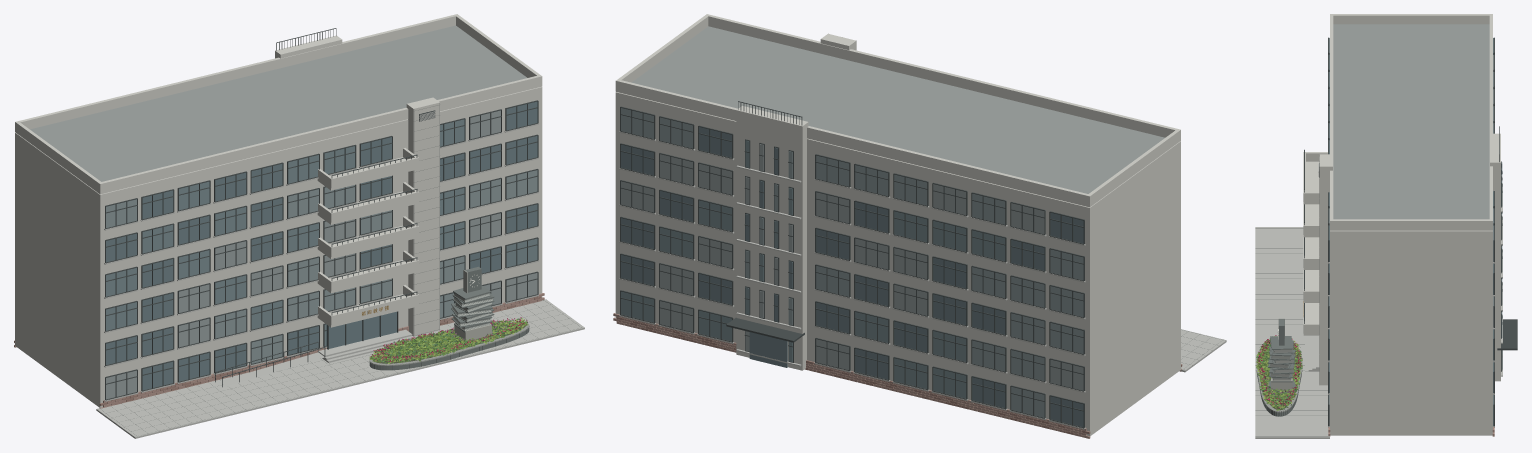
File: buildings-17-medium.glb
3 renders of one model, left to right at view 1: azimuth 30°, elevation 25°; view 2: azimuth 150°, elevation 25°; view 3: azimuth 270°, elevation 25°, orthographic. The views are drawn at different scales.
Visible parts, largest first — view 1: T4 six storey structure, T4 flat roof, T4 window glass.001, T4 forecourt paving, T4 roof parapet, T4 window transoms, T4 window glass.003, T4 window mullions, T4 window glass.002, T4 window glass, T4 front shaft, T4 balcony front (+20 smaller); view 2: T4 six storey structure, T4 flat roof, T4 window glass.001, T4 rear stair tower, T4 window glass.002, T4 window transoms, T4 roof parapet, T4 window glass, T4 window mullions, T4 window glass.003, T4 projecting sills, T4 end parapet (+12 smaller); view 3: T4 six storey structure, T4 flat roof, T4 forecourt paving, T4 end parapet, T4 front shaft, T4 balcony slab, T4 rear stair tower, T4 roof parapet, T4 balcony returns, T4 overhanging book covers, T4 window transoms, T4 paving joints (+12 smaller).
Part boxes in pixels (x1,y1,x2,y2): T4 six storey structure: (15,86,542,407); T4 flat roof: (30,25,526,181); T4 window glass.001: (106,101,537,390); T4 forecourt paving: (96,299,584,438); T4 roof parapet: (18,15,538,193); T4 window transoms: (105,100,538,400); T4 window glass.003: (106,119,537,345); T4 window mullions: (105,101,538,399); T4 window glass.002: (106,170,537,363); T4 window glass: (106,110,537,399); T4 front shaft: (406,97,439,336); T4 balcony front: (330,157,418,325); T4 six storey structure: (615,92,1180,435); T4 flat roof: (632,26,1164,193); T4 window glass.001: (621,127,1083,427); T4 rear stair tower: (736,106,808,370); T4 window glass.002: (621,108,1083,417); T4 window transoms: (620,106,1084,428); T4 roof parapet: (619,15,1177,206); T4 window glass: (621,154,1083,390); T4 window mullions: (620,107,1084,427); T4 window glass.003: (621,200,1005,398); T4 projecting sills: (619,131,1085,429); T4 end parapet: (615,14,1180,207); T4 six storey structure: (1330,230,1492,435); T4 flat roof: (1333,24,1489,219); T4 forecourt paving: (1255,227,1329,438); T4 end parapet: (1330,14,1492,230); T4 front shaft: (1319,154,1332,385); T4 balcony slab: (1303,161,1319,335); T4 rear stair tower: (1490,133,1500,381); T4 roof parapet: (1330,15,1492,219); T4 balcony returns: (1304,152,1327,333); T4 overhanging book covers: (1267,336,1295,382); T4 window transoms: (1328,37,1494,404); T4 paving joints: (1255,228,1329,436).
Bounding box in the file's own units: 41.5 × 20.97 × 21.86.
